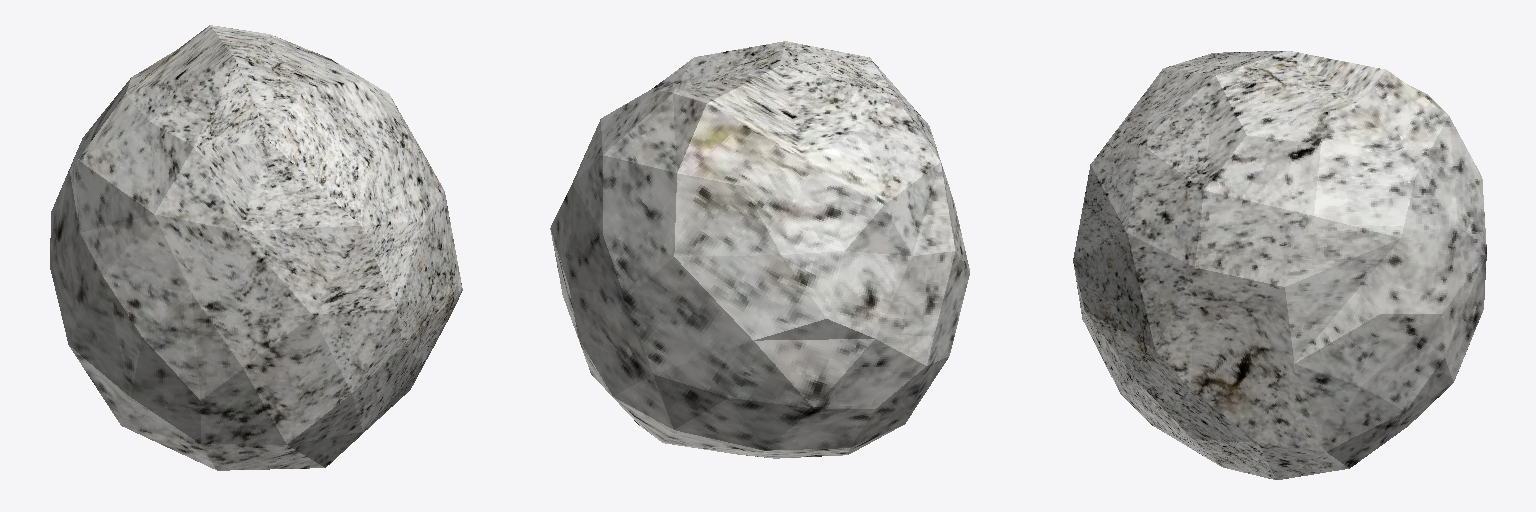
3 renders of one model, left to right at view 1: azimuth 30°, elevation 25°; view 2: azimuth 150°, elevation 25°; view 3: azimuth 270°, elevation 25°, orthographic.
Parts seen in each view (by area): view 1: rock.001; view 2: rock.001; view 3: rock.001.
Part boxes in pixels (bbox=[...]): rock.001: bbox=[50, 25, 462, 470]; rock.001: bbox=[550, 41, 969, 458]; rock.001: bbox=[1073, 51, 1486, 479].
Bounding box in the file's own units: 2.41 × 2.63 × 2.5.
1 materials, 1 textured.